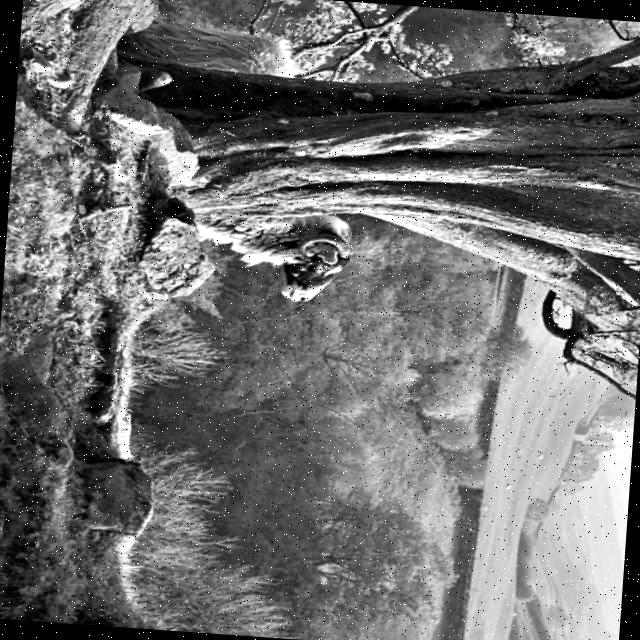sheep: (137, 20, 350, 301)
